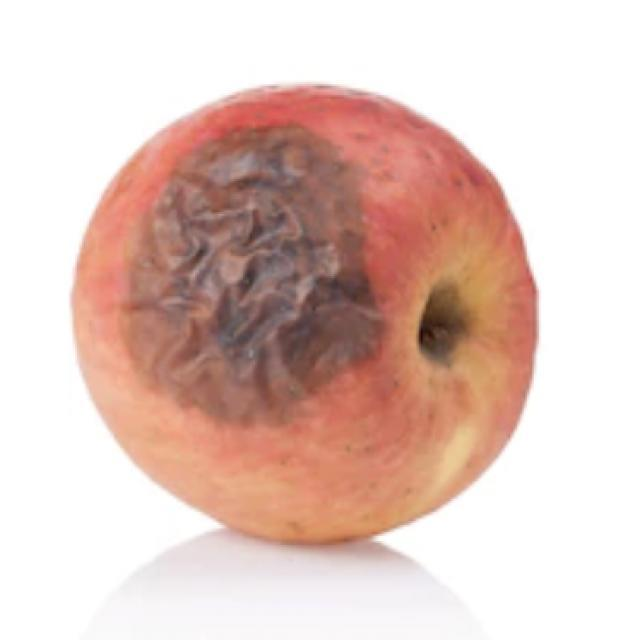Rotten: (65, 80, 538, 552)
